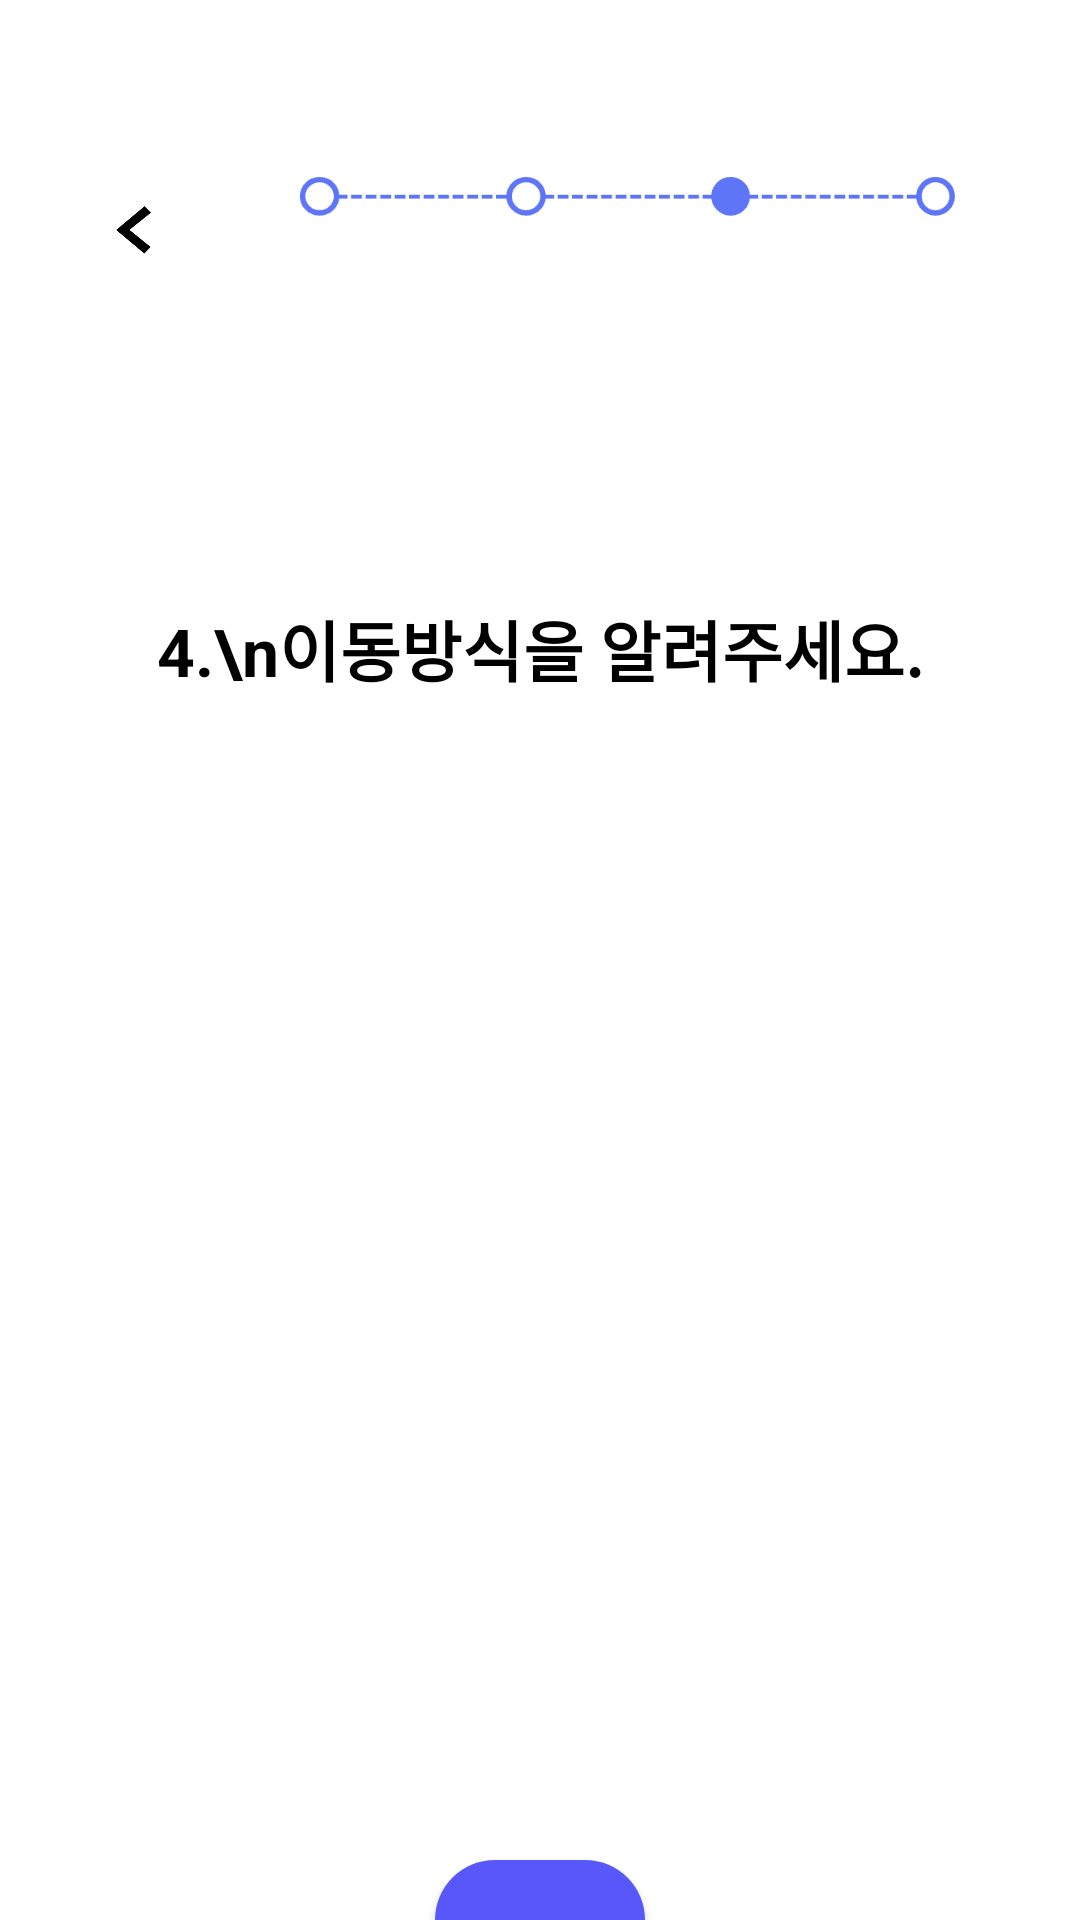

Named icons in this screenshot (1080 x 1920) and their centers, (x=x, y=y):
backbut: (x=133, y=230)
